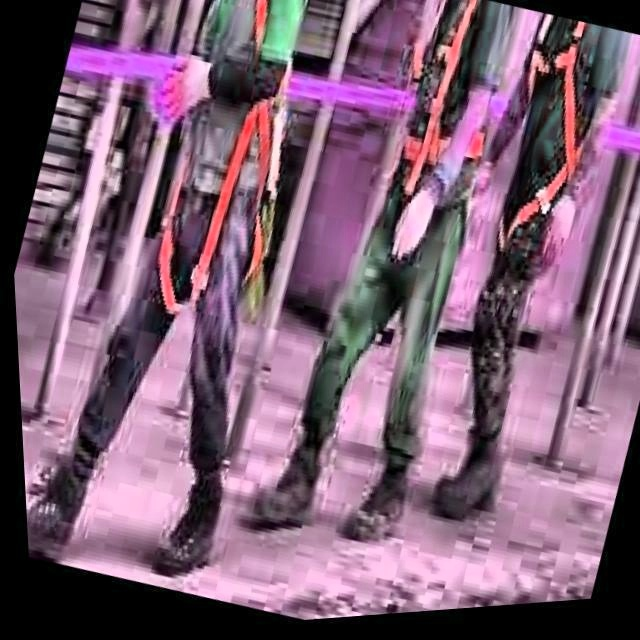safety belt: (143, 23, 279, 219), (398, 22, 495, 179), (508, 34, 574, 254)
